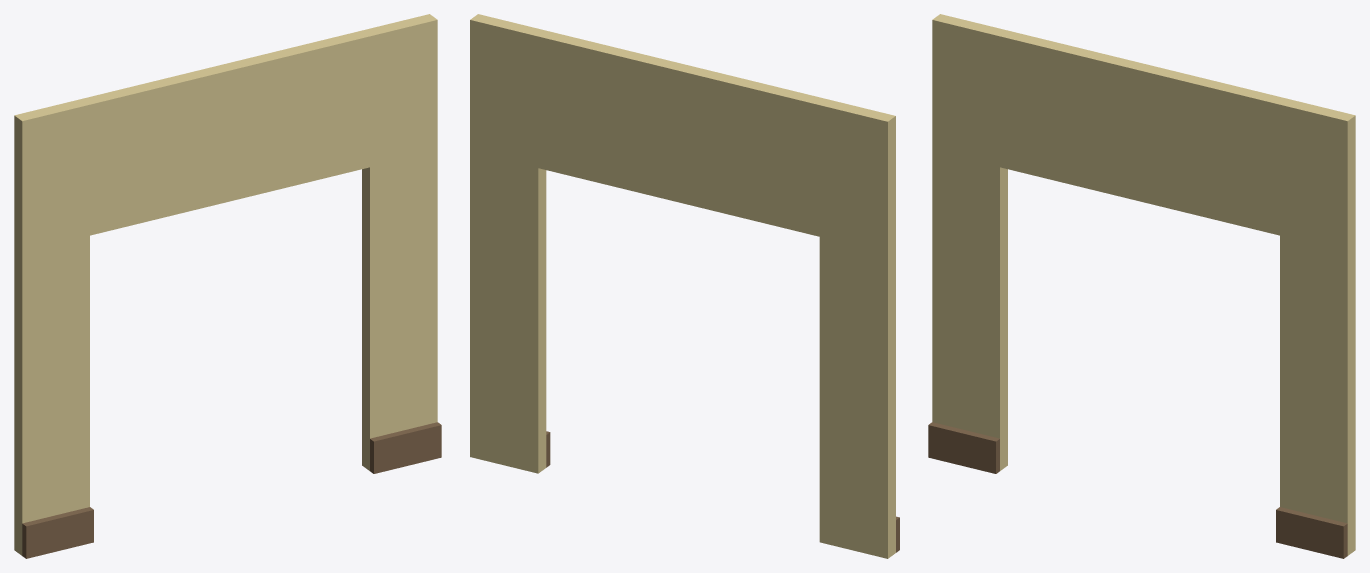
The model's file is Mesh_WallBaseboard_I4.fbx.
The picture shows the model from 3 angles, left to right: view 1: azimuth 30°, elevation 25°; view 2: azimuth 150°, elevation 25°; view 3: azimuth 330°, elevation 25°; orthographic projection.
Parts seen in each view (by area): view 1: Mesh_WallBaseboard_I4; view 2: Mesh_WallBaseboard_I4; view 3: Mesh_WallBaseboard_I4.
Boxes of the visible parts, bbox=[...] form: Mesh_WallBaseboard_I4: bbox=[14, 14, 441, 558]; Mesh_WallBaseboard_I4: bbox=[470, 14, 899, 558]; Mesh_WallBaseboard_I4: bbox=[928, 14, 1355, 558].
Size of the model in its own units: 3 by 3 by 0.15.
